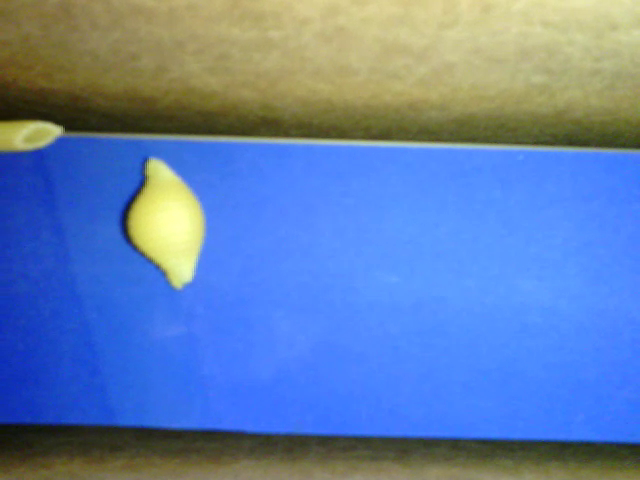penne: (1, 120, 67, 151)
shell: (124, 156, 204, 289)
